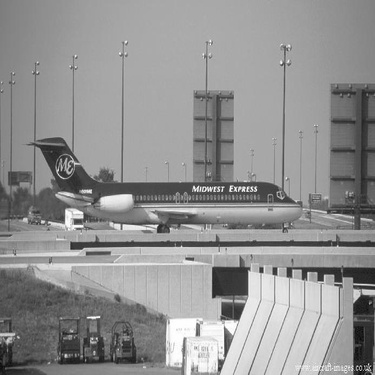airplane: (12, 120, 317, 248)
